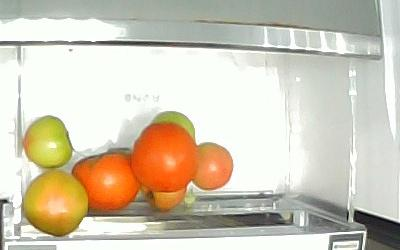tomato: (132, 121, 201, 192), (22, 169, 88, 238), (71, 147, 141, 211), (23, 116, 72, 168), (192, 140, 233, 191), (151, 110, 197, 140), (143, 186, 187, 213)
